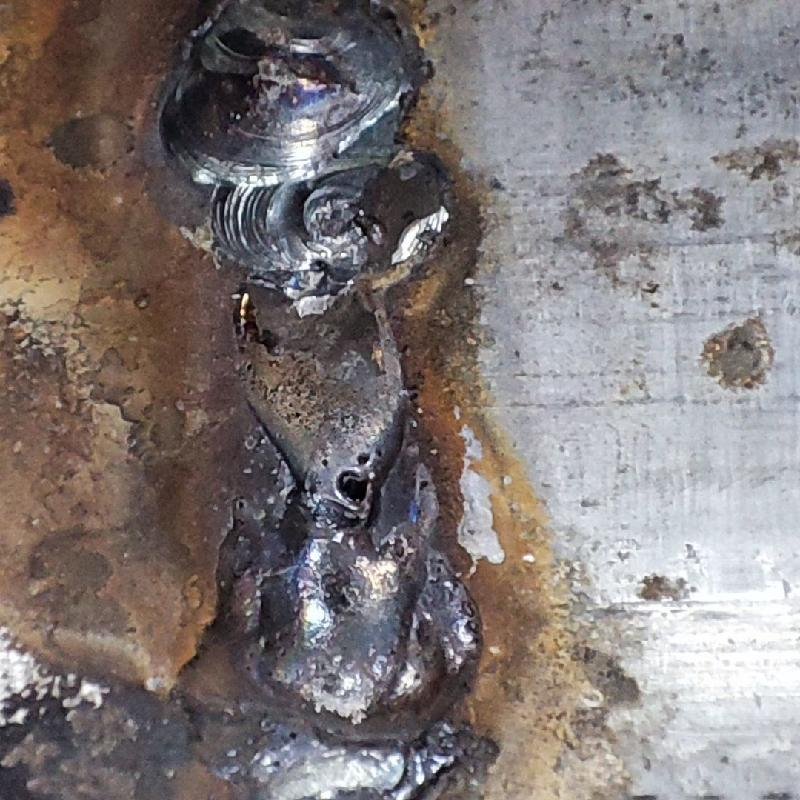Not_fully_soldered: (208, 176, 417, 513)
Surface_pores: (308, 450, 392, 510)
Weld: (213, 518, 473, 797)
wrong_size: (189, 3, 396, 174)
